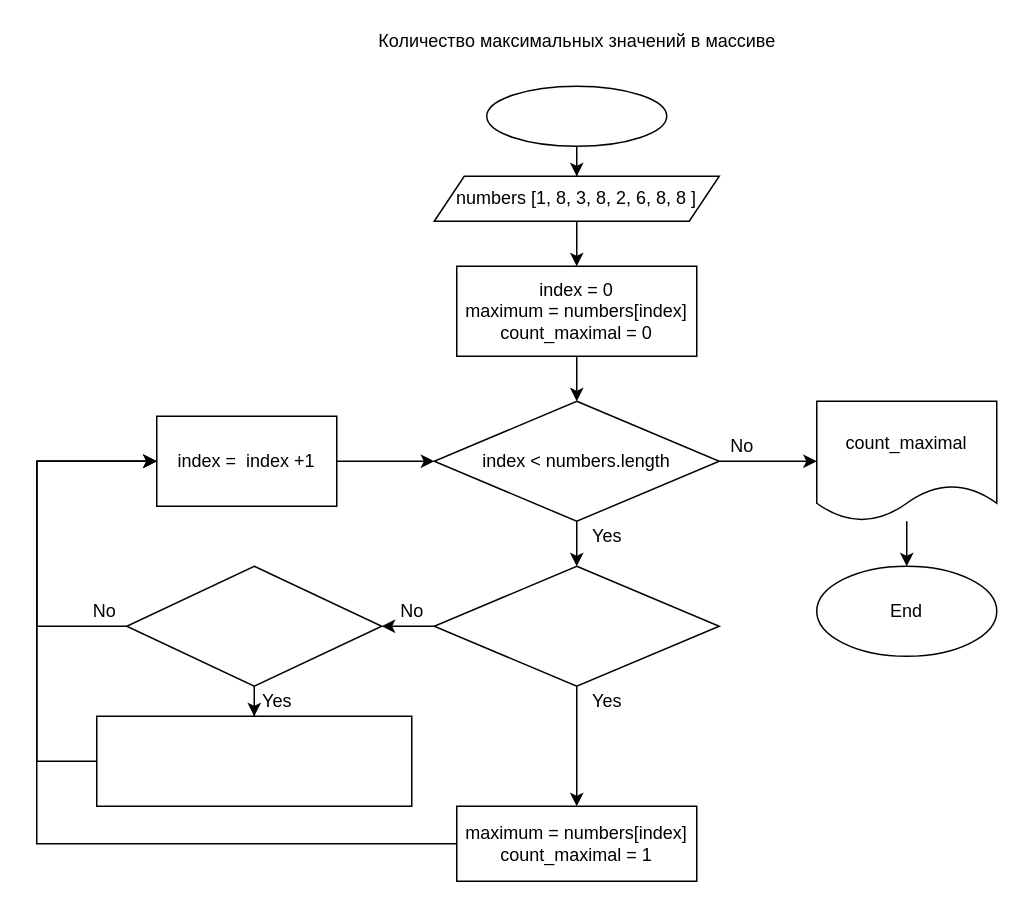
This 1023x908 diagram has some shape labels left out. The centre of each missing label's shape, as x and y in pixels:
"count_maximal = count_maximal +1" belongs at (253,760).
"number[index] == maximum" belongs at (253,625).
"number[index] > maximum" belongs at (576,625).
"Start" belongs at (576,115).
